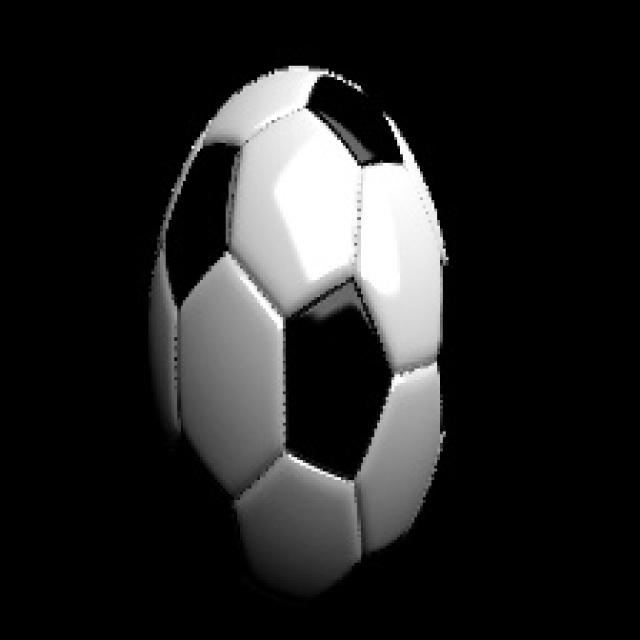ball: (126, 69, 468, 594)
